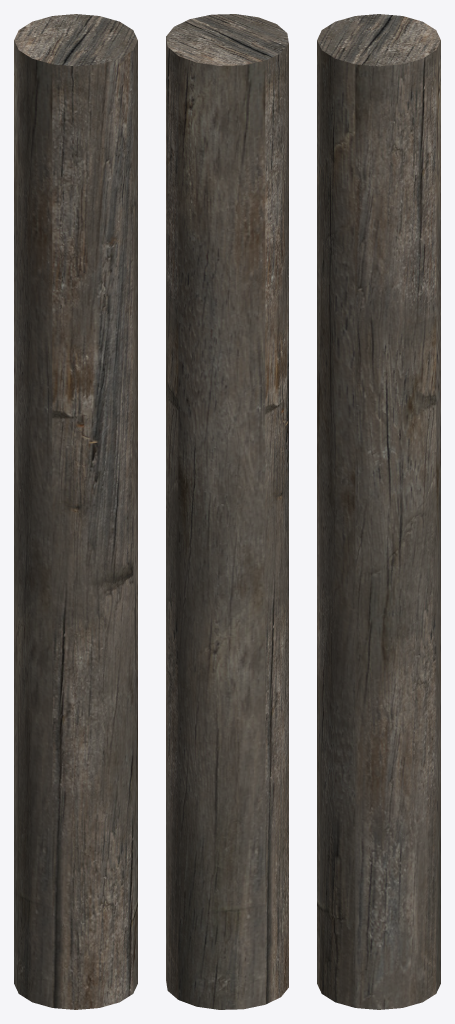
Rendered from column.fbx.
3 renders of one model, left to right at view 1: azimuth 90°, elevation 25°; view 2: azimuth 150°, elevation 25°; view 3: azimuth 270°, elevation 25°, orthographic.
Parts seen in each view (by area): view 1: Columna 3.002; view 2: Columna 3.002; view 3: Columna 3.002.
Boxes of the visible parts, bbox=[...] form: Columna 3.002: bbox=[14, 14, 137, 1009]; Columna 3.002: bbox=[166, 14, 288, 1009]; Columna 3.002: bbox=[317, 14, 440, 1009].
Bounding box in the file's own units: 58.95 × 496 × 58.95.
Materials: 1 (1 with a texture image).
